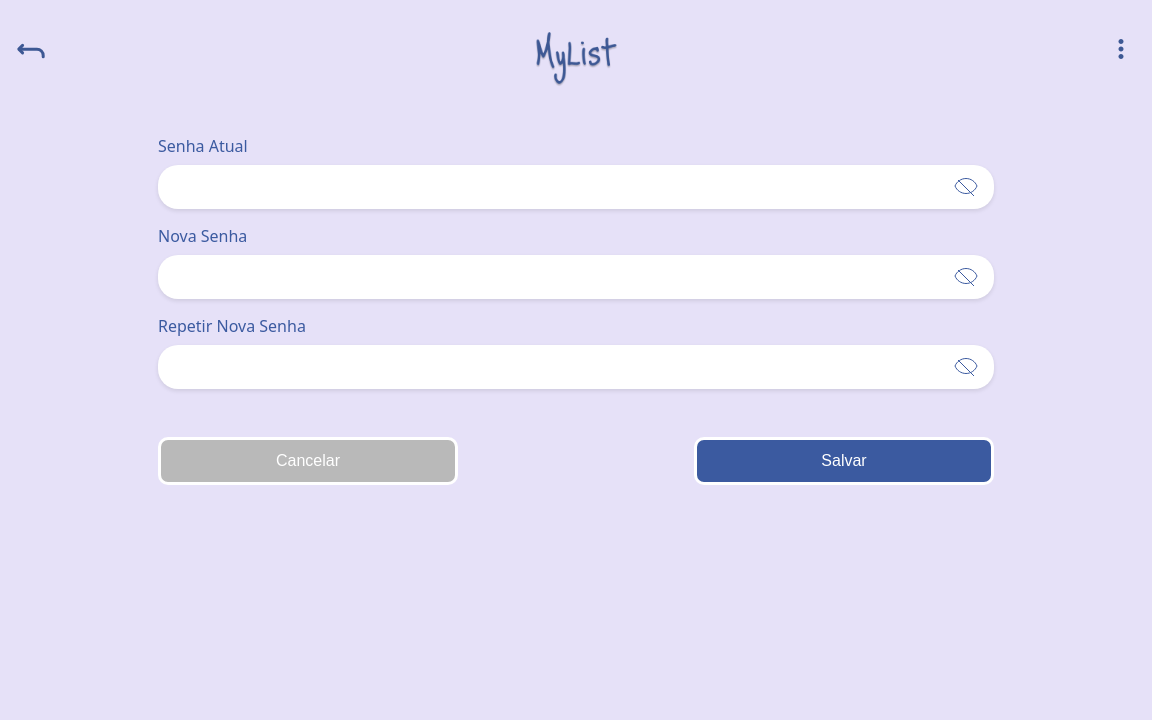
ChangePasswordPage › shows error message on failed password change
The image size is (1152, 720).
Type "oldpass" into the password field labelled "Senha Atual" at coordinates (576, 187), box [158,165,994,209]
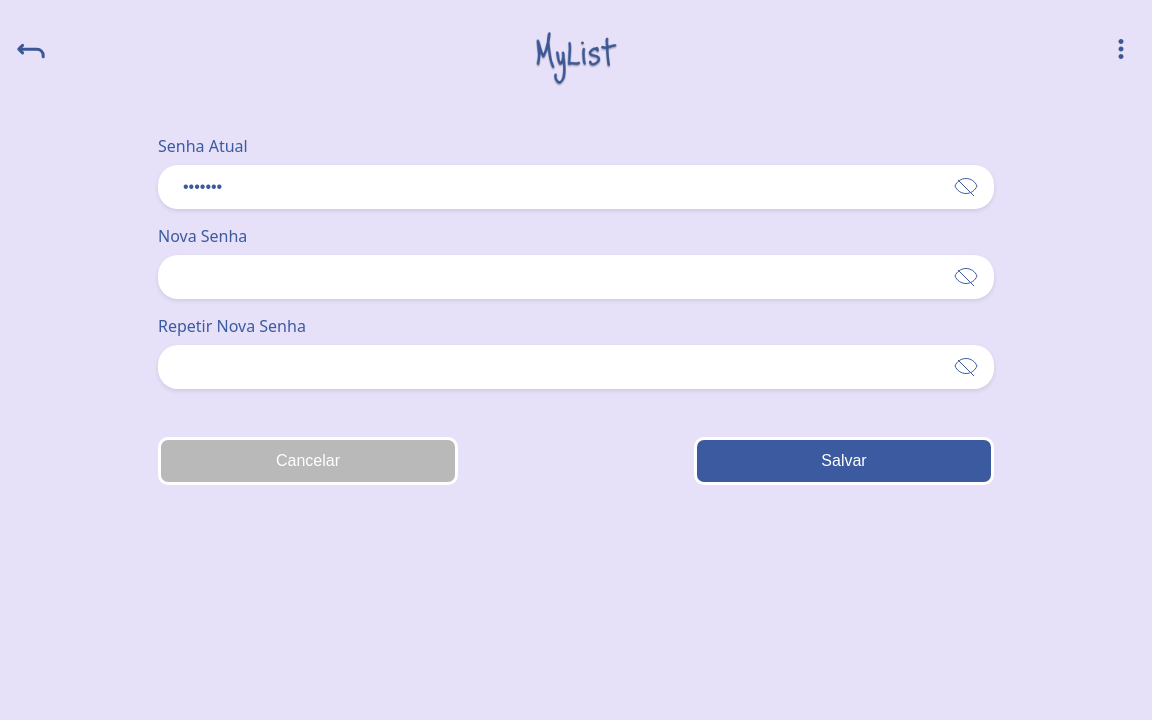
Type "newpass" into the password field labelled "Nova Senha" at coordinates (576, 277), box [158,255,994,299]
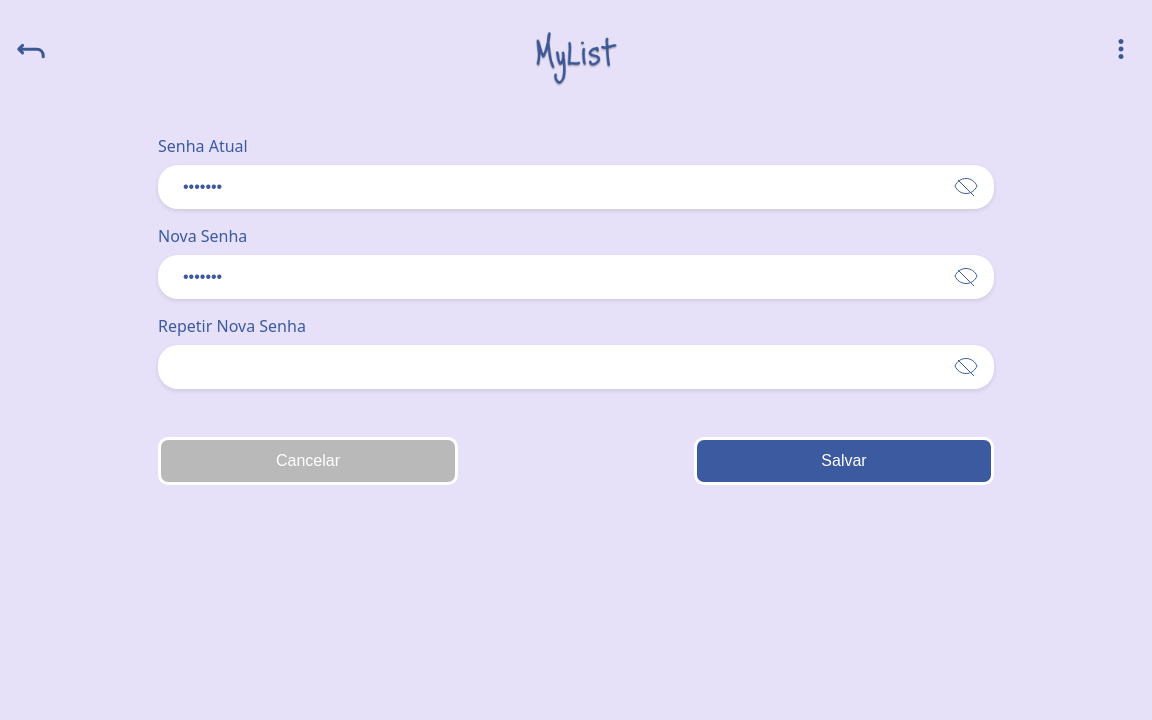
Type "newpass" into the password field labelled "Repetir Nova Senha" at coordinates (576, 367), box [158,345,994,389]
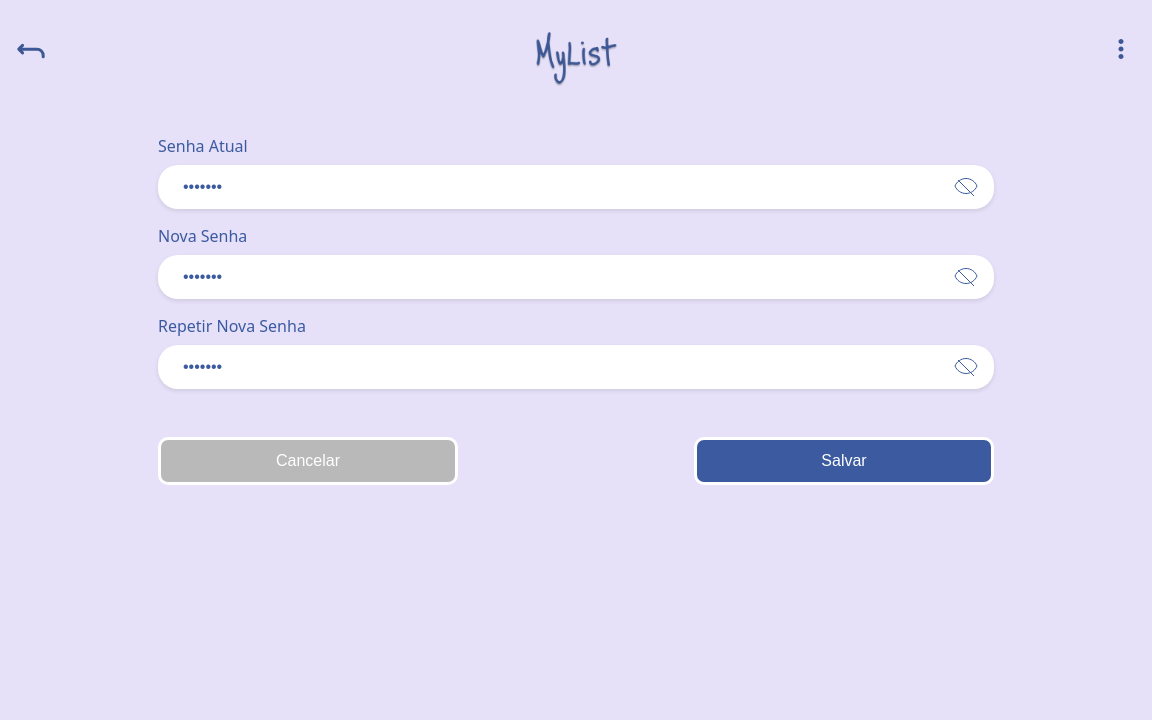
Click the button "Salvar" at coordinates (844, 461), box [694,437,994,485]
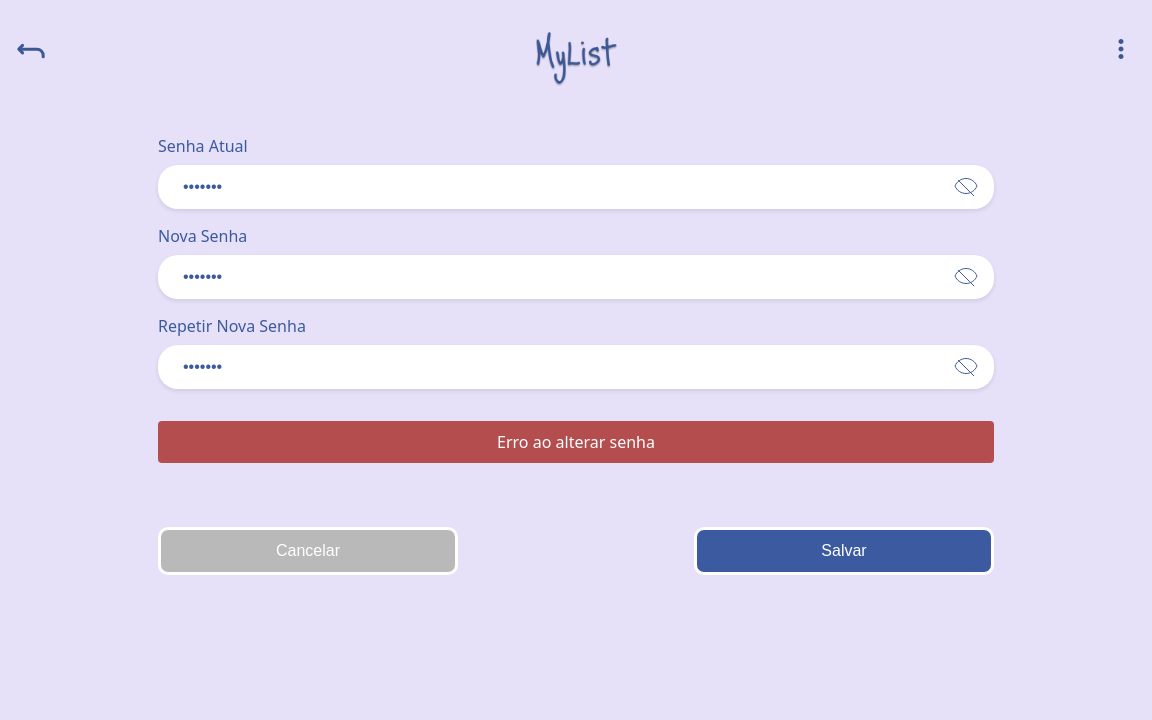
Result: the text "Erro ao alterar senha" is shown at [158,421,994,463]
